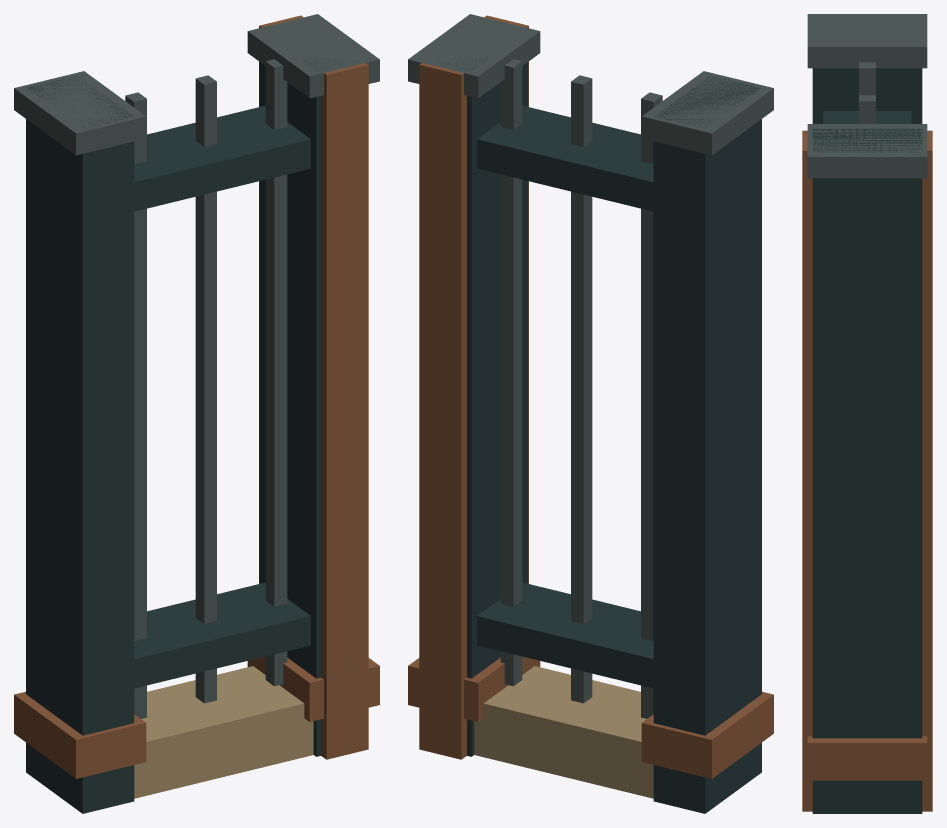
File: FSA_ENV_Quarantine_End.glb
3 renders of one model, left to right at view 1: azimuth 30°, elevation 25°; view 2: azimuth 150°, elevation 25°; view 3: azimuth 270°, elevation 25°, orthographic. The views are drawn at different scales.
Parts seen in each view (by area): view 1: X_Post0, TerminalSpine, X_Post1, X_Foot, X_Bar84, X_Bar54, X_Rail0_5, X_Rail2_45, X_Cap0, X_Bar24, X_Cap1, X_Collar0 (+1 smaller); view 2: X_Post0, TerminalSpine, X_Post1, X_Foot, X_Bar84, X_Bar54, X_Rail0_5, X_Rail2_45, X_Cap0, X_Bar24, X_Cap1, X_Collar0 (+1 smaller); view 3: X_Post1, TerminalSpine, X_Cap0, X_Cap1, X_Collar1, X_Post0, X_Rail2_45, X_Bar24, X_Bar54.
Boxes of the visible parts, left/top/right/bottom form: X_Post0: left=26, top=75, right=134, bottom=813; TerminalSpine: left=259, top=15, right=368, bottom=759; X_Post1: left=259, top=43, right=353, bottom=756; X_Foot: left=134, top=666, right=313, bottom=798; X_Bar84: left=265, top=59, right=287, bottom=686; X_Bar54: left=195, top=75, right=216, bottom=703; X_Rail0_5: left=134, top=582, right=310, bottom=688; X_Rail2_45: left=134, top=106, right=310, bottom=211; X_Cap0: left=14, top=71, right=146, bottom=155; X_Bar24: left=125, top=92, right=146, bottom=718; X_Cap1: left=247, top=14, right=379, bottom=98; X_Collar0: left=14, top=691, right=146, bottom=778; X_Post0: left=653, top=76, right=761, bottom=813; TerminalSpine: left=419, top=15, right=528, bottom=759; X_Post1: left=441, top=48, right=528, bottom=756; X_Foot: left=474, top=666, right=653, bottom=798; X_Bar84: left=500, top=59, right=522, bottom=686; X_Bar54: left=571, top=75, right=592, bottom=703; X_Rail0_5: left=477, top=582, right=653, bottom=688; X_Rail2_45: left=477, top=106, right=653, bottom=211; X_Cap0: left=641, top=71, right=773, bottom=155; X_Bar24: left=641, top=92, right=662, bottom=718; X_Cap1: left=408, top=14, right=540, bottom=98; X_Collar0: left=641, top=691, right=773, bottom=778; X_Post1: left=812, top=128, right=922, bottom=813; TerminalSpine: left=802, top=130, right=932, bottom=811; X_Cap0: left=807, top=14, right=927, bottom=68; X_Cap1: left=807, top=124, right=927, bottom=178; X_Collar1: left=807, top=736, right=927, bottom=780; X_Post0: left=812, top=68, right=922, bottom=123; X_Rail2_45: left=823, top=111, right=911, bottom=123; X_Bar24: left=859, top=62, right=875, bottom=95; X_Bar54: left=859, top=95, right=875, bottom=123.
Size of what is drawn, in the model's own units: 1.3 by 2.8 by 0.5.
